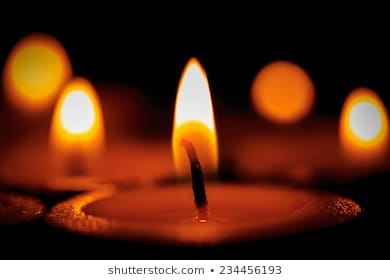Fire: (169, 57, 222, 171), (51, 81, 108, 154), (341, 84, 388, 156)
